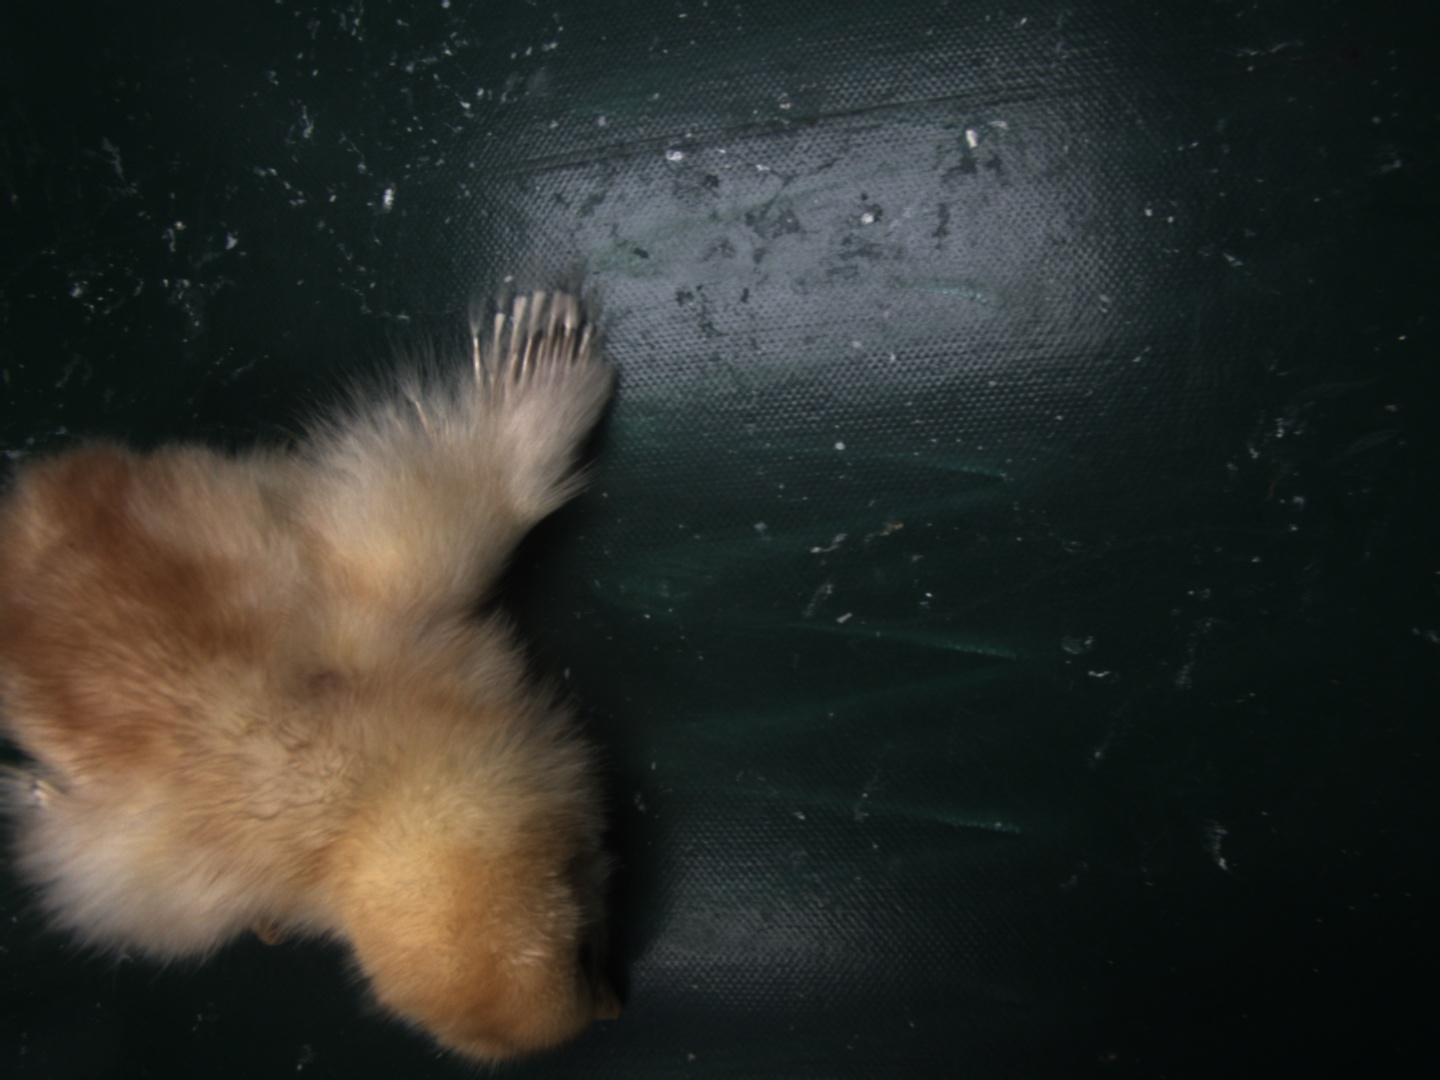female: (467, 290, 593, 397)
